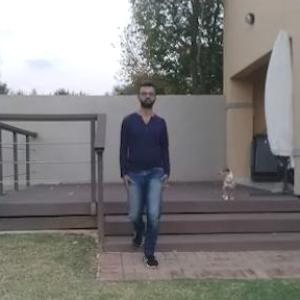follow: (114, 77, 163, 273)
